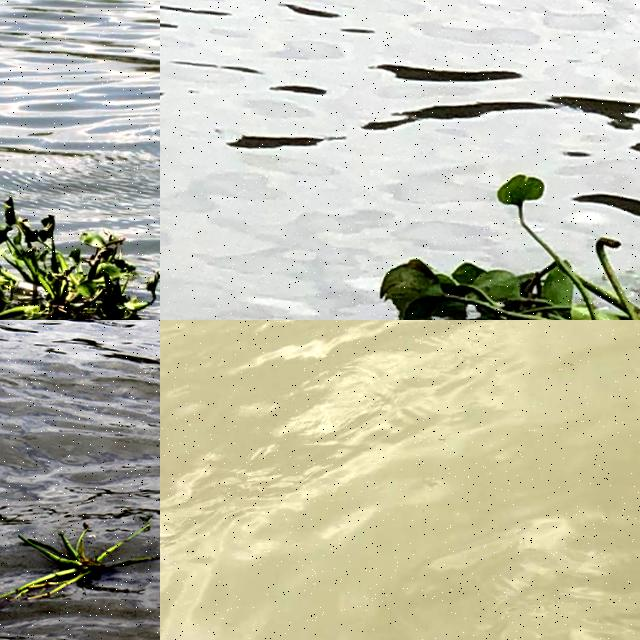water-hyacinth: (378, 170, 640, 321), (1, 203, 161, 321)
